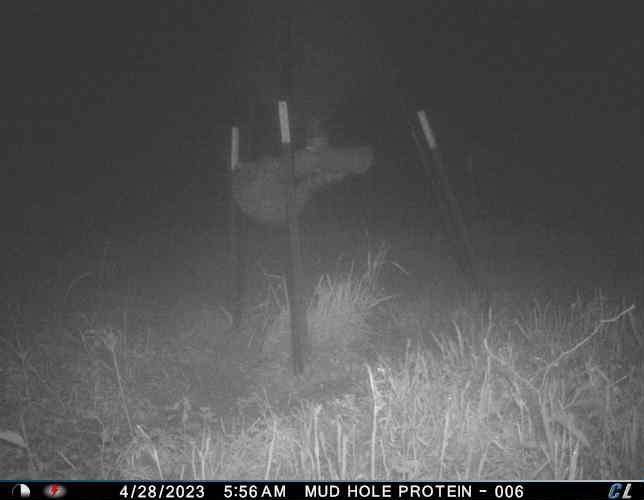Raccoon: (231, 156, 344, 229)
